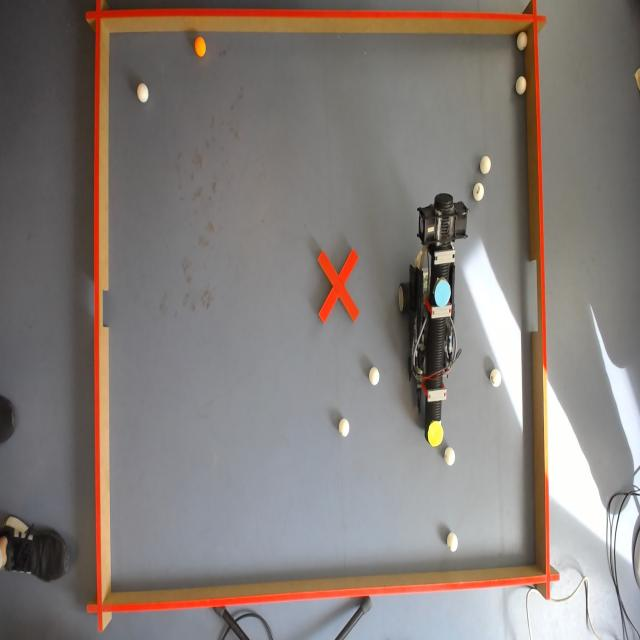orange: (192, 37, 207, 60)
robot: (401, 190, 470, 447)
robot-front: (428, 423, 446, 446)
robot-rear: (434, 280, 452, 308)
white: (447, 533, 460, 556), (136, 84, 149, 104), (369, 368, 382, 387), (339, 416, 351, 436), (516, 76, 529, 94), (516, 32, 527, 52), (479, 156, 491, 174), (444, 447, 455, 465), (474, 185, 485, 201), (490, 370, 500, 384)
